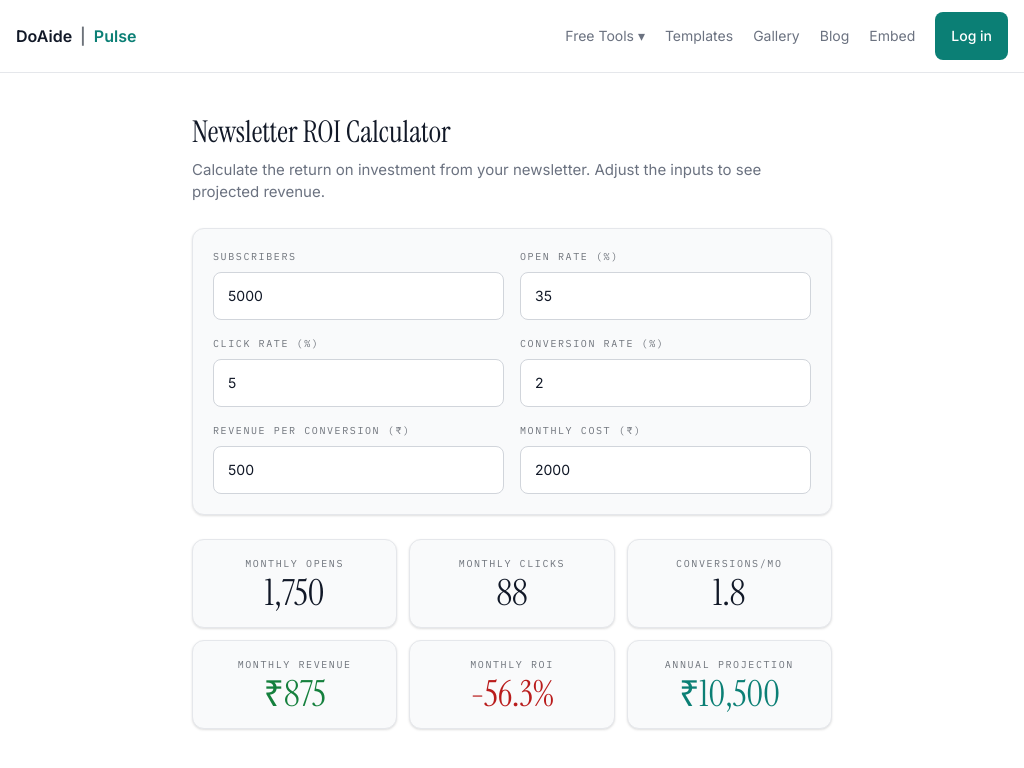
Scenario: NewsletterRoiCalculator › answers in rupees, grouped the Indian way, like the pricing it sits beside
The image size is (1024, 768).
Expected: the number field labelled "Revenue per conversion (₹)" is shown, [213,446,504,494]
Expected: the number field labelled "Monthly cost (₹)" is shown, [520,446,811,494]
Replace the text in the number field labelled "Subscribers" with "100000" at (358, 296), box [213,272,504,320]
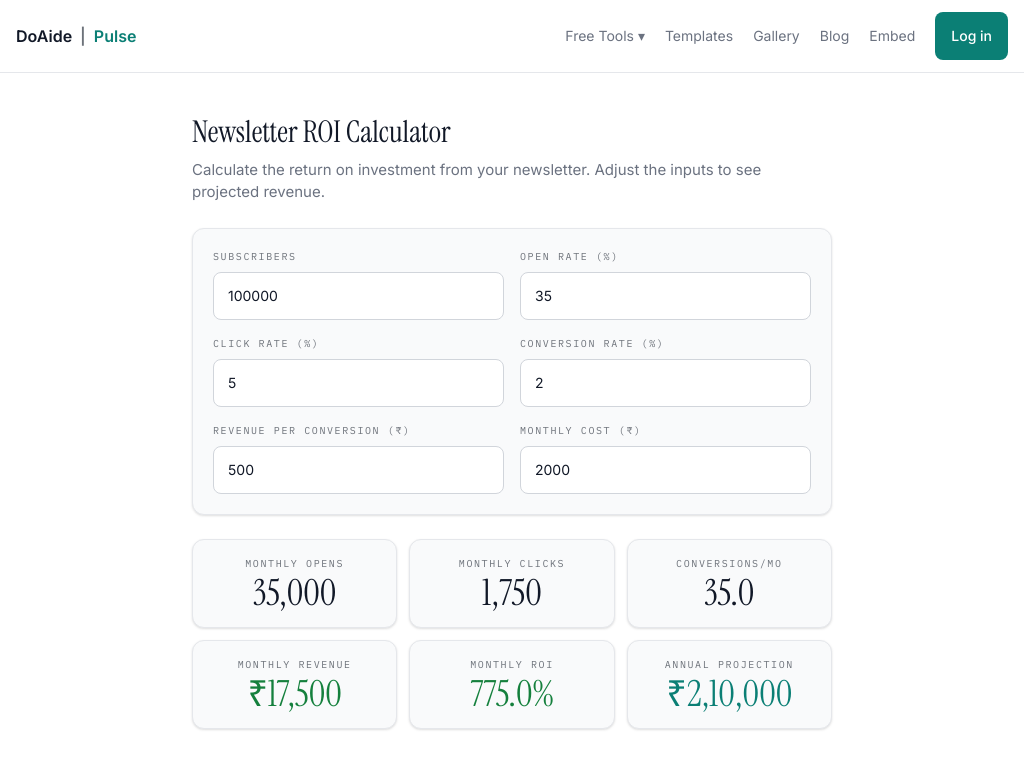
Replace the text in the number field labelled "Open rate (%)" with "100" at (666, 296), box [520,272,811,320]
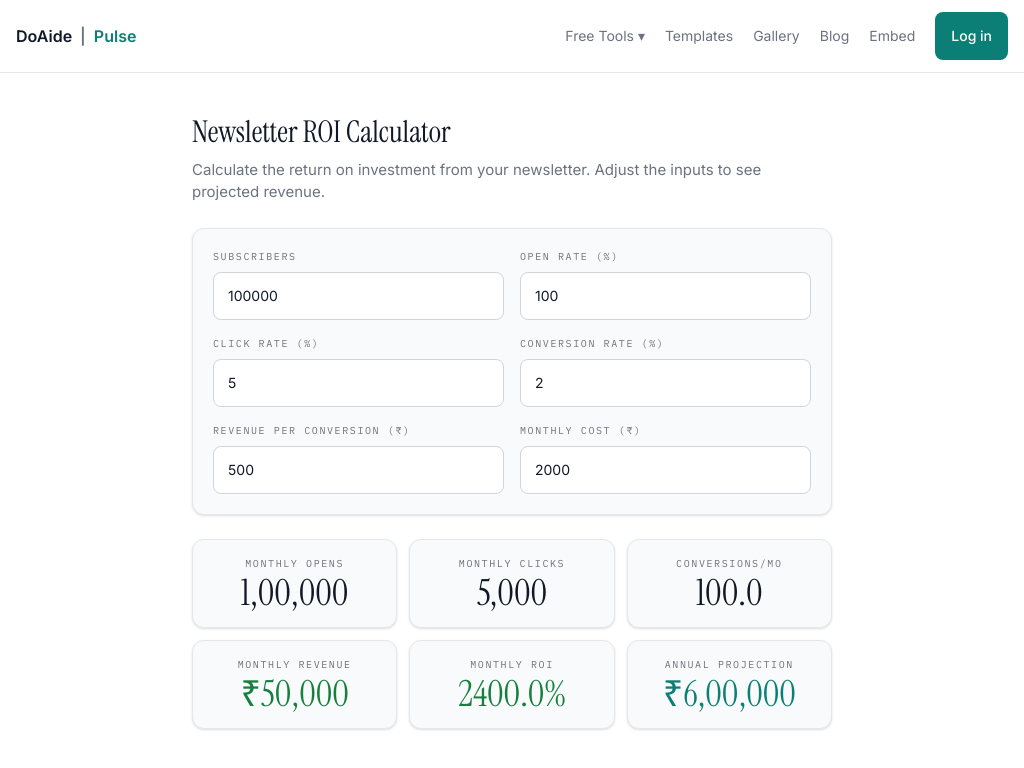
Replace the text in the number field labelled "Click rate (%)" with "100" at (358, 382), box [213,358,504,406]
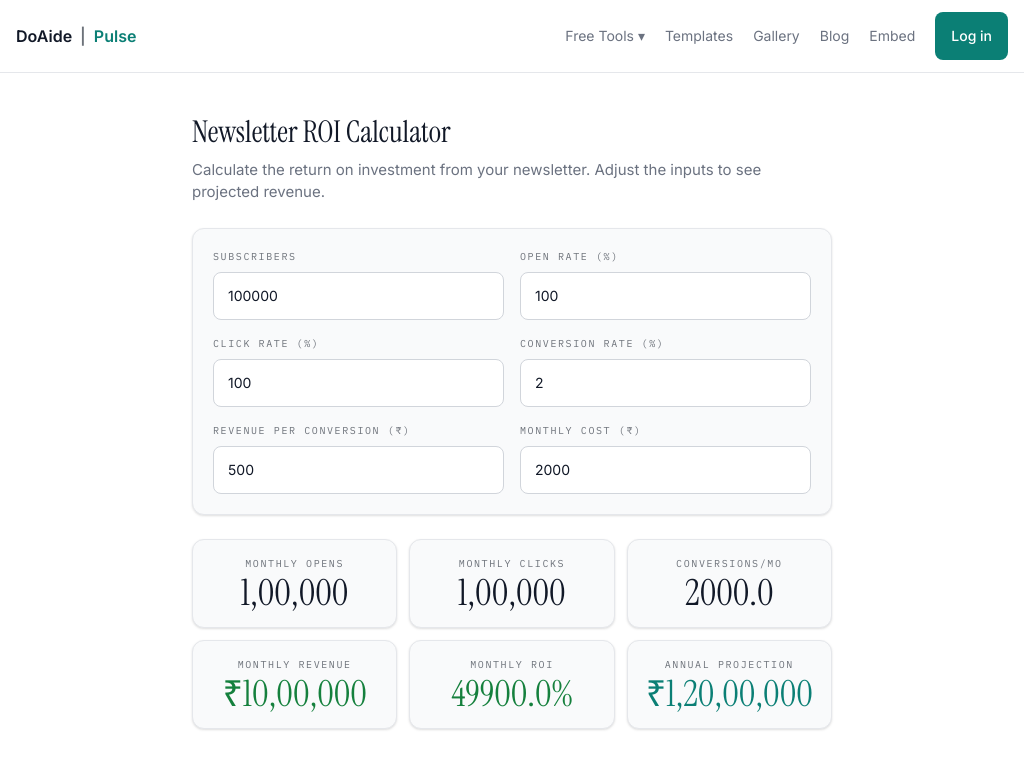
Replace the text in the number field labelled "Conversion rate (%)" with "100" at (666, 382), box [520,358,811,406]
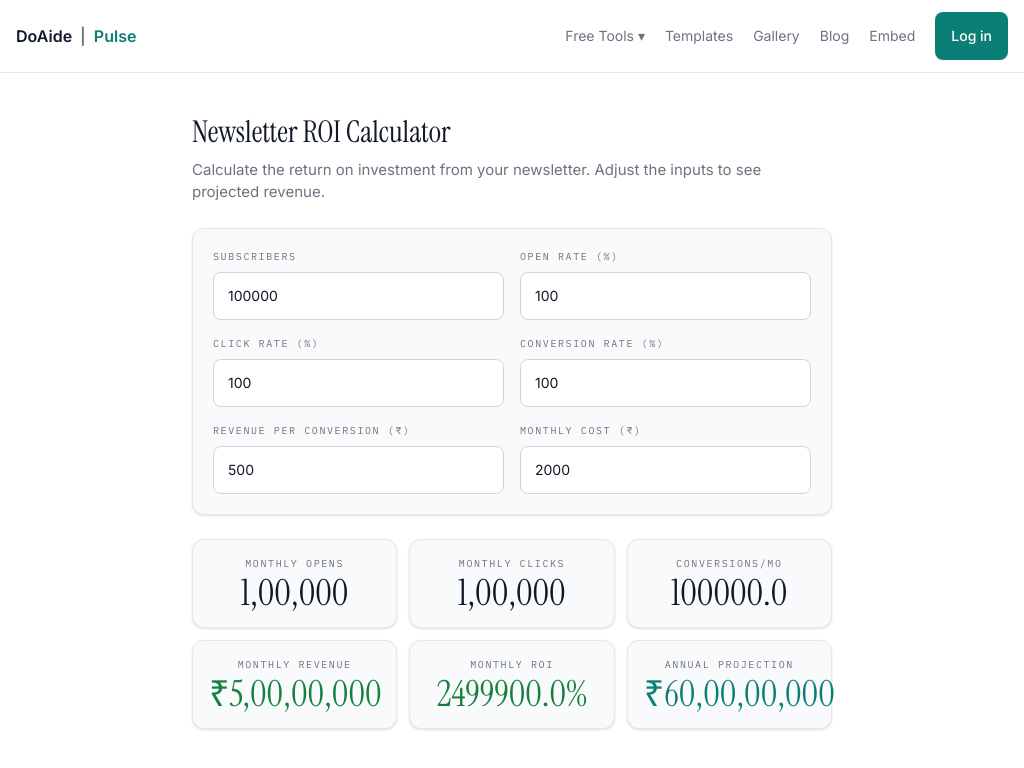
Result: the text with test id "opens" reads "1,00,000" at [241,568,348,616]
Result: the text with test id "revenue" reads "₹5,00,00,000" at [209,670,382,716]
